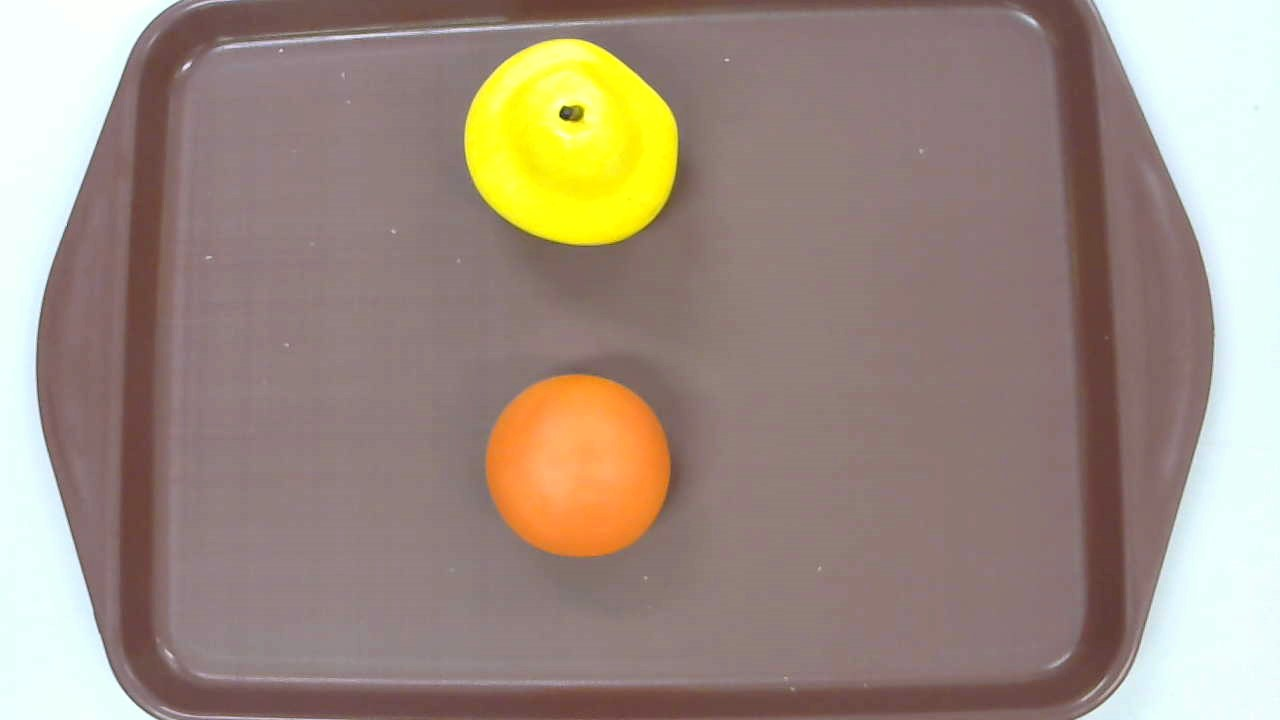bun: (485, 373, 672, 558)
yellow pear: (464, 38, 678, 246)
